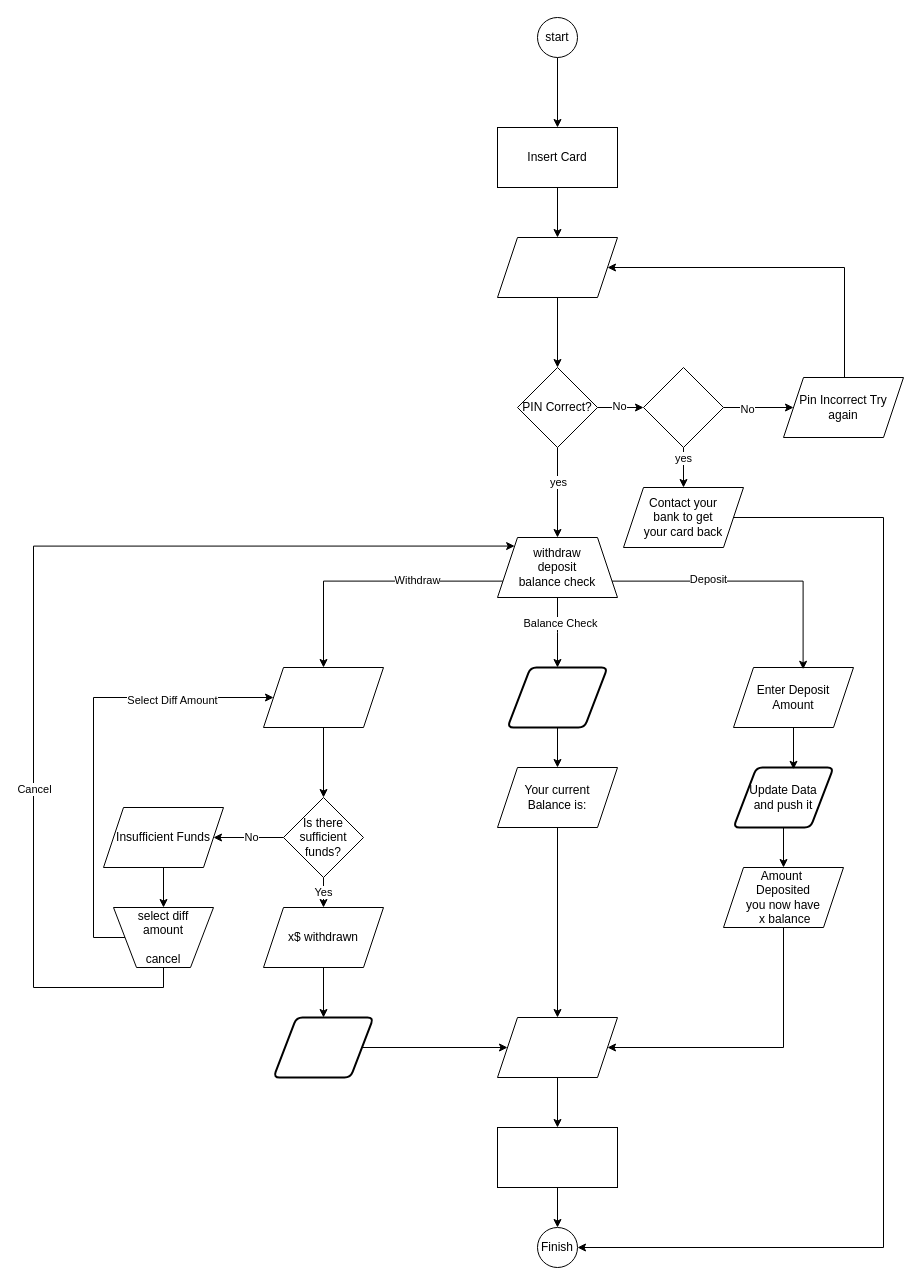
The diagram is 921 pixels wide and 1285 high, and some of its shapes have lost their labels. Here are the shapes that lost their labels. From the top down, the centre of each, then its label:
the point at 557,267: Insert Pin
the point at 683,407: Incorrect 3 times?
the point at 323,697: Enter Withdraw Amount
the point at 557,697: Pull from Data
the point at 323,1047: Update Balance
the point at 557,1047: Please take back your card
the point at 557,1157: Took the card
